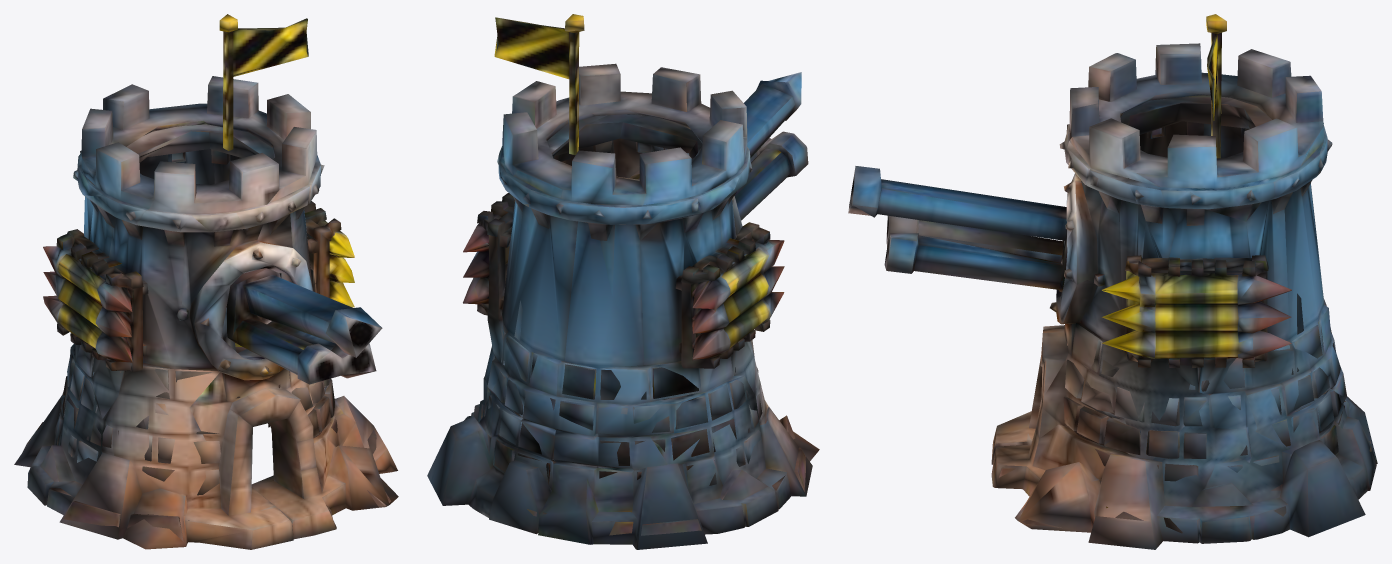
Rendered from paota-3.glb.
3 views of the same model, side by side, from view 1: azimuth 30°, elevation 25°; view 2: azimuth 150°, elevation 25°; view 3: azimuth 270°, elevation 25° (orthographic). The views are drawn at different scales.
Visible parts, largest first — view 1: node_0; view 2: node_0; view 3: node_0.
Boxes of the visible parts, x1,y1,x2,y2 form: node_0: (14, 14, 398, 549); node_0: (427, 14, 819, 549); node_0: (848, 14, 1377, 549).
Bounding box in the file's own units: 0.6262 × 0.8127 × 0.8355.
1 material, 1 textured.
